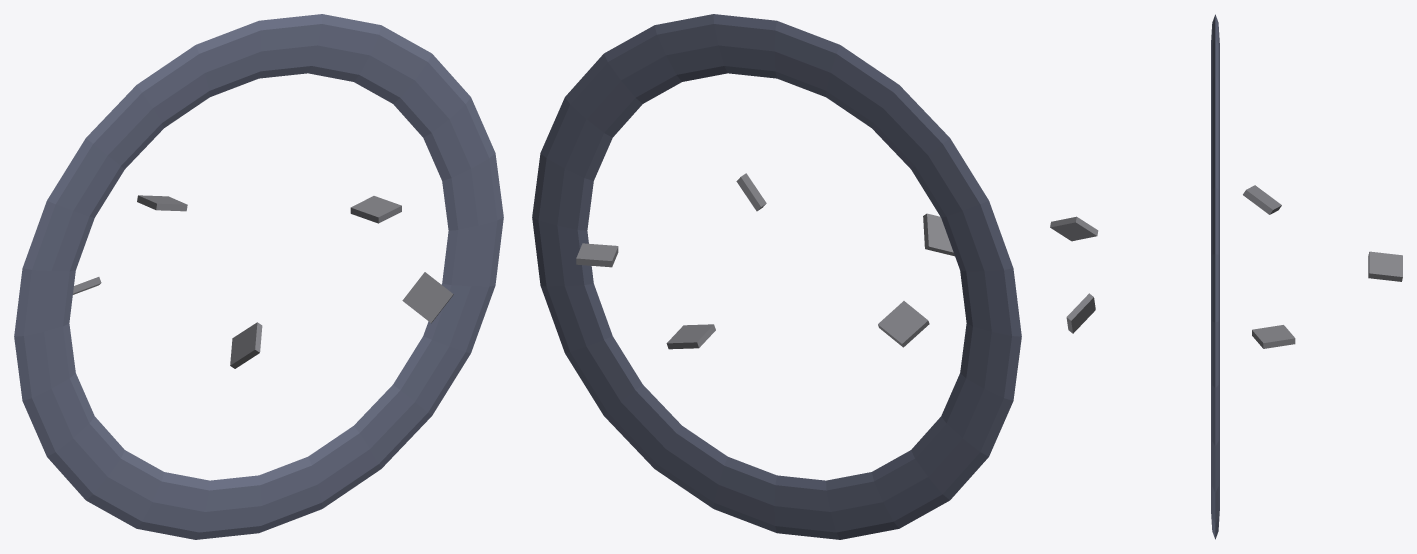
Rendered from gate-breach-shockwave.glb.
The picture shows the model from 3 angles, left to right: view 1: azimuth 30°, elevation 25°; view 2: azimuth 150°, elevation 25°; view 3: azimuth 270°, elevation 25°; orthographic projection. The views are drawn at different scales.
Visible parts, largest first — view 1: breach-shockwave-ring, breach-shard-4, breach-shard-3, breach-shard-0, breach-shard-1; view 2: breach-shockwave-ring, breach-shard-2, breach-shard-3, breach-shard-1, breach-shard-0; view 3: breach-shockwave-ring, breach-shard-1, breach-shard-3, breach-shard-0, breach-shard-4, breach-shard-2.
Boxes of the visible parts, x1,y1,x2,y2 form: breach-shockwave-ring: (14, 14, 503, 539); breach-shard-4: (402, 272, 453, 323); breach-shard-3: (230, 322, 262, 368); breach-shard-0: (350, 196, 401, 223); breach-shard-1: (137, 195, 187, 211); breach-shockwave-ring: (532, 14, 1021, 539); breach-shard-2: (878, 301, 929, 347); breach-shard-3: (923, 213, 954, 256); breach-shard-1: (666, 324, 715, 349); breach-shard-0: (576, 243, 618, 267); breach-shockwave-ring: (1211, 14, 1219, 539); breach-shard-1: (1368, 251, 1402, 281); breach-shard-3: (1050, 216, 1098, 241); breach-shard-0: (1252, 325, 1295, 348); breach-shard-4: (1066, 293, 1095, 333); breach-shard-2: (1243, 185, 1281, 214).
Bounding box in the file's own units: 1.24 × 1.24 × 0.829.
